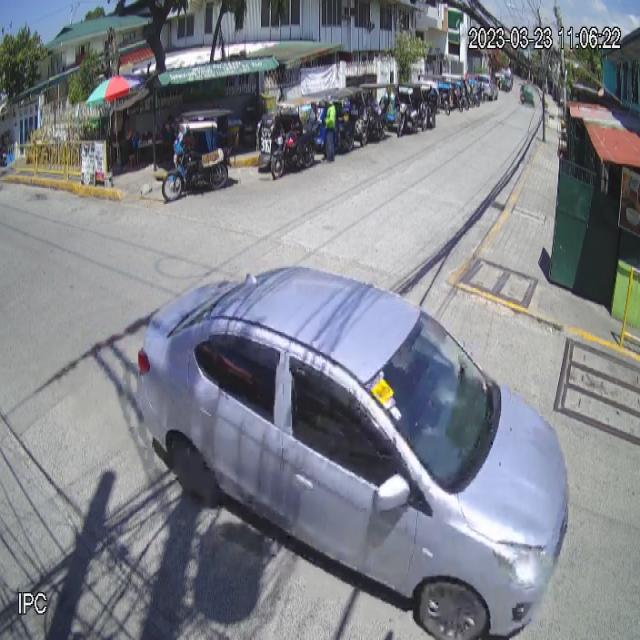Car: (137, 263, 570, 640)
